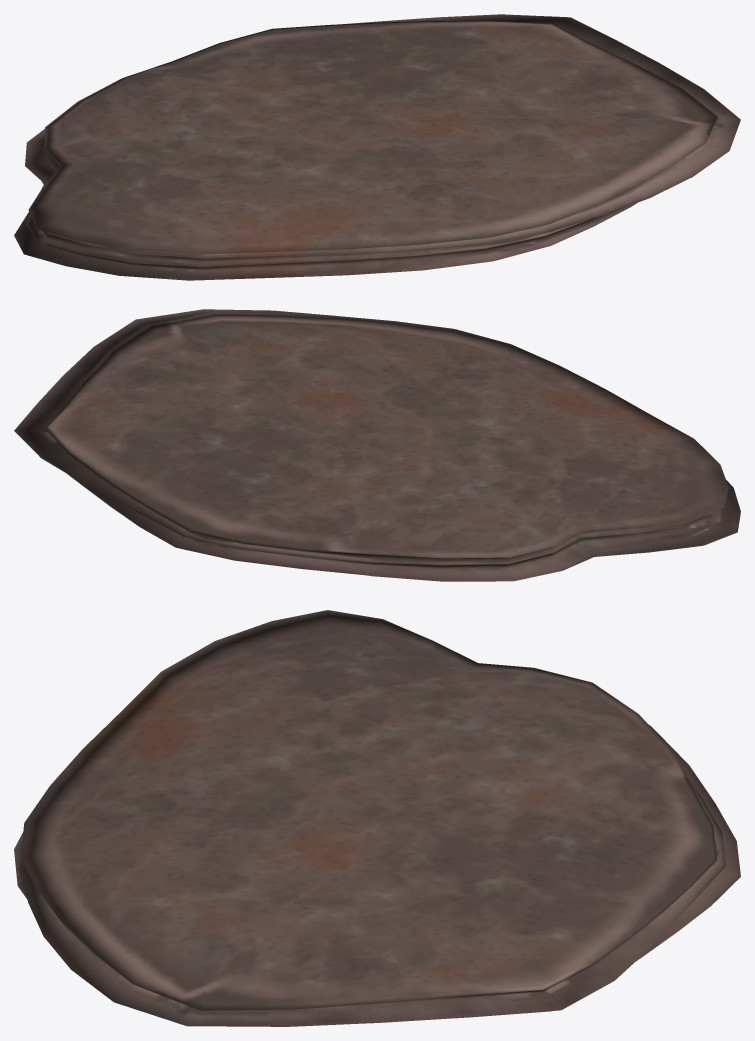
Rendered from thin_shale_06.glb.
3 views of the same model, one above another, from view 1: azimuth 30°, elevation 25°; view 2: azimuth 150°, elevation 25°; view 3: azimuth 270°, elevation 25° (orthographic). The views are drawn at different scales.
Parts seen in each view (by area): view 1: thin_shale_06; view 2: thin_shale_06; view 3: thin_shale_06.
Part boxes in pixels (bbox=[...]): thin_shale_06: bbox=[14, 14, 740, 280]; thin_shale_06: bbox=[14, 309, 740, 581]; thin_shale_06: bbox=[14, 610, 740, 1026].
Size of the model in its own units: 0.0851 by 0.00539 by 0.0631.
Materials: 1 (1 with a texture image).
